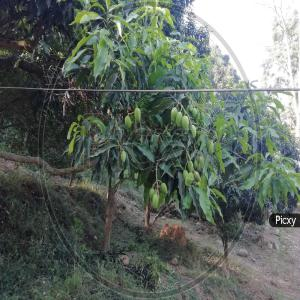Tree: (70, 4, 152, 260), (138, 32, 215, 255), (206, 92, 268, 267)
